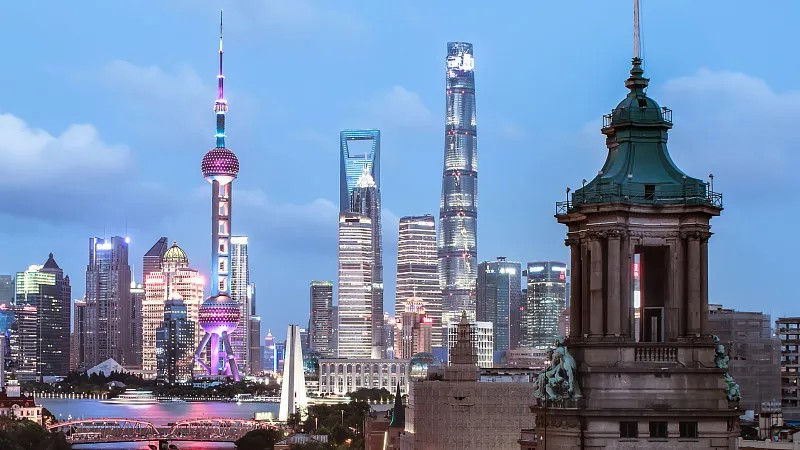Oriental: (195, 11, 241, 379)
